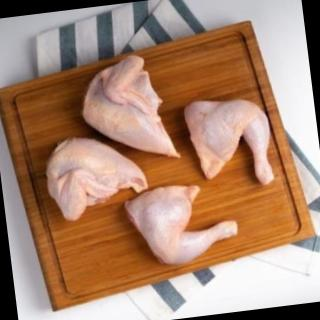Ayam: (79, 54, 182, 168), (125, 180, 241, 271), (44, 129, 153, 224), (186, 94, 276, 194)
